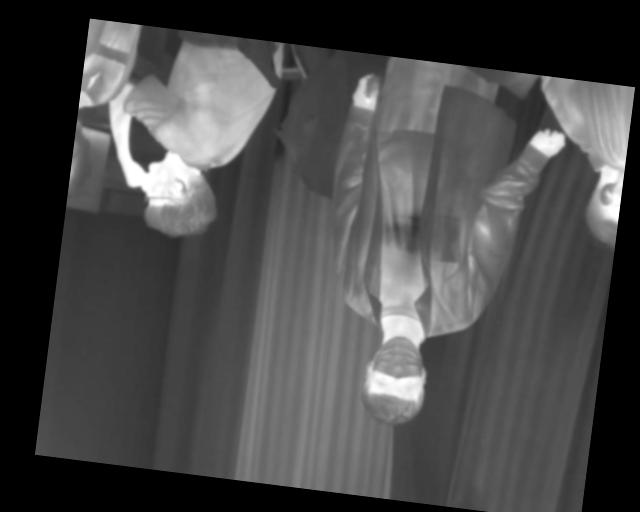face: (358, 329, 431, 428)
